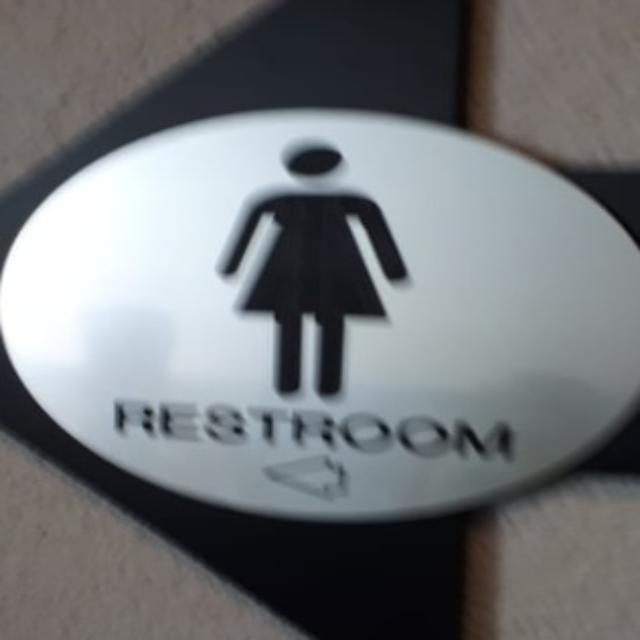wc nu: (2, 111, 638, 521)
